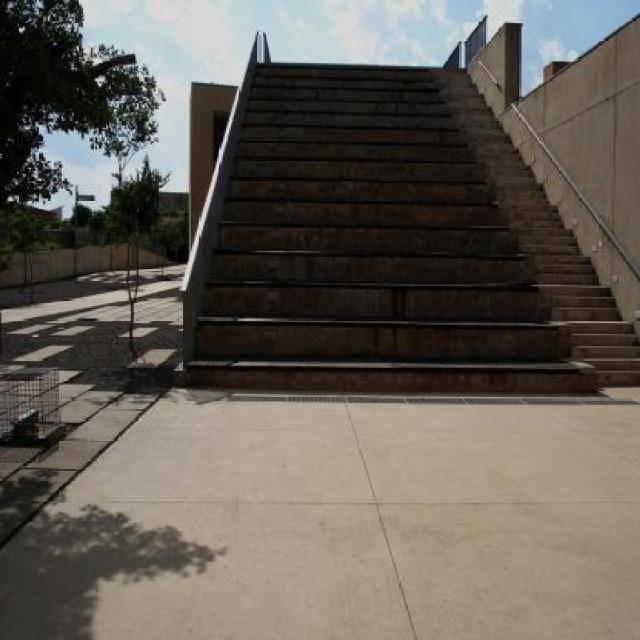stair: (183, 61, 597, 396), (429, 66, 640, 388)
